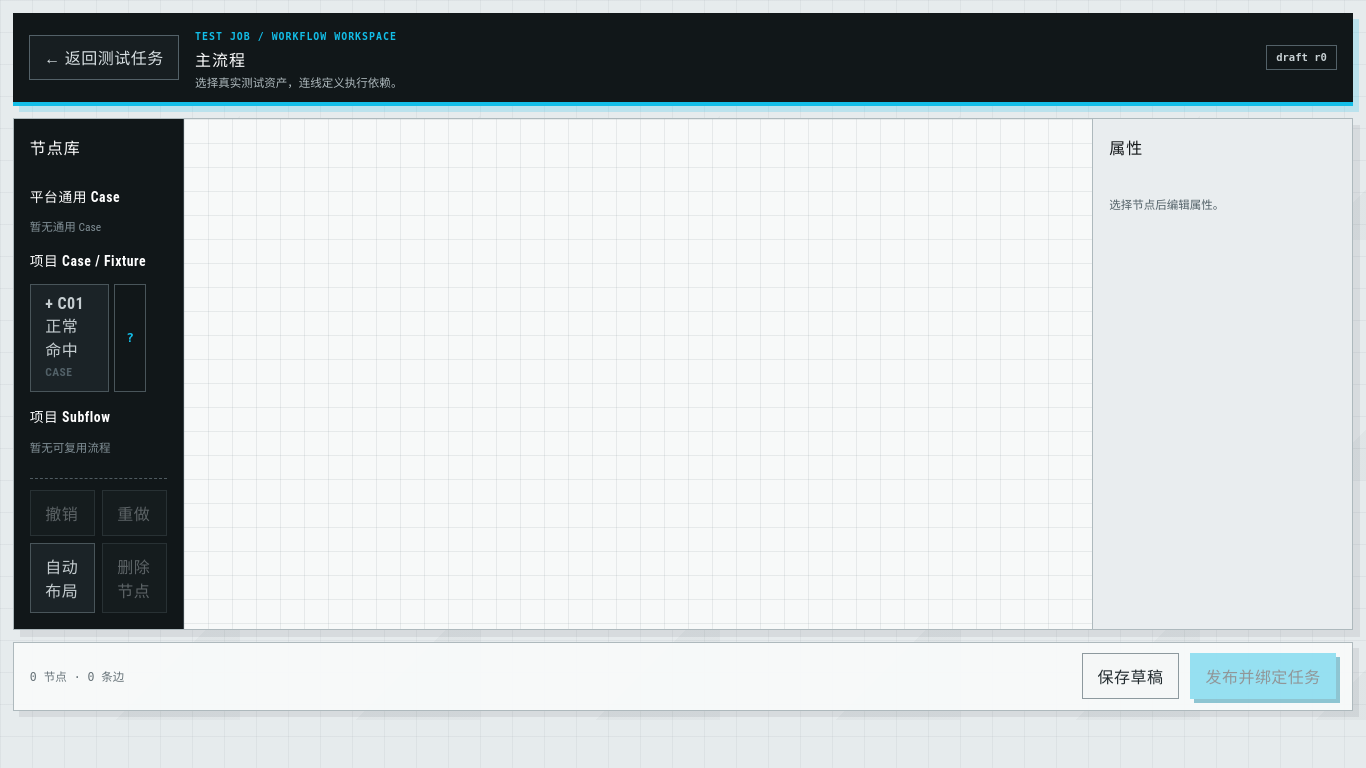
Scenario: WorkflowDesigner › does not publish when saving the current DAG fails
Step 1. Click the button "+ C01 正常命中 CASE" → coordinates (69, 338), box [30,284,109,392]
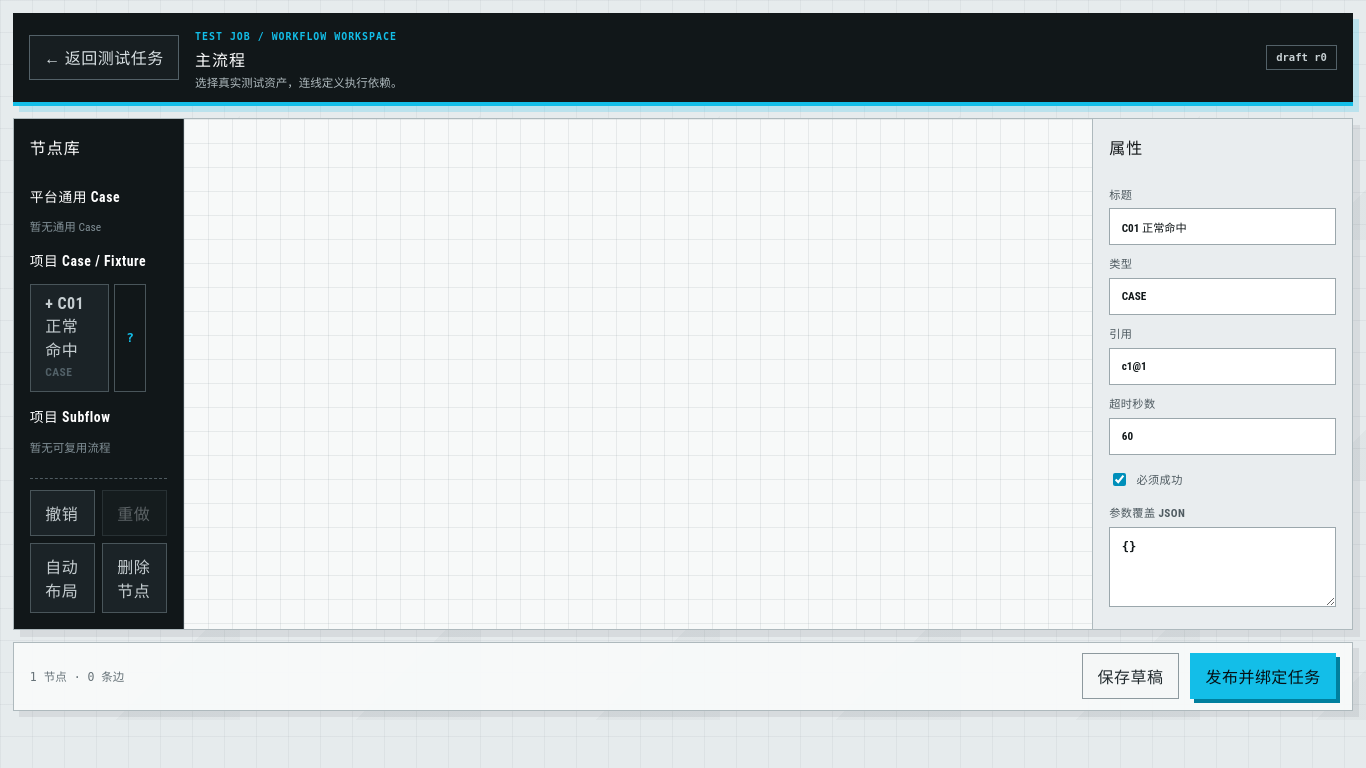
Step 2. Click the button "发布并绑定任务" → coordinates (1263, 676), box [1190,654,1336,699]
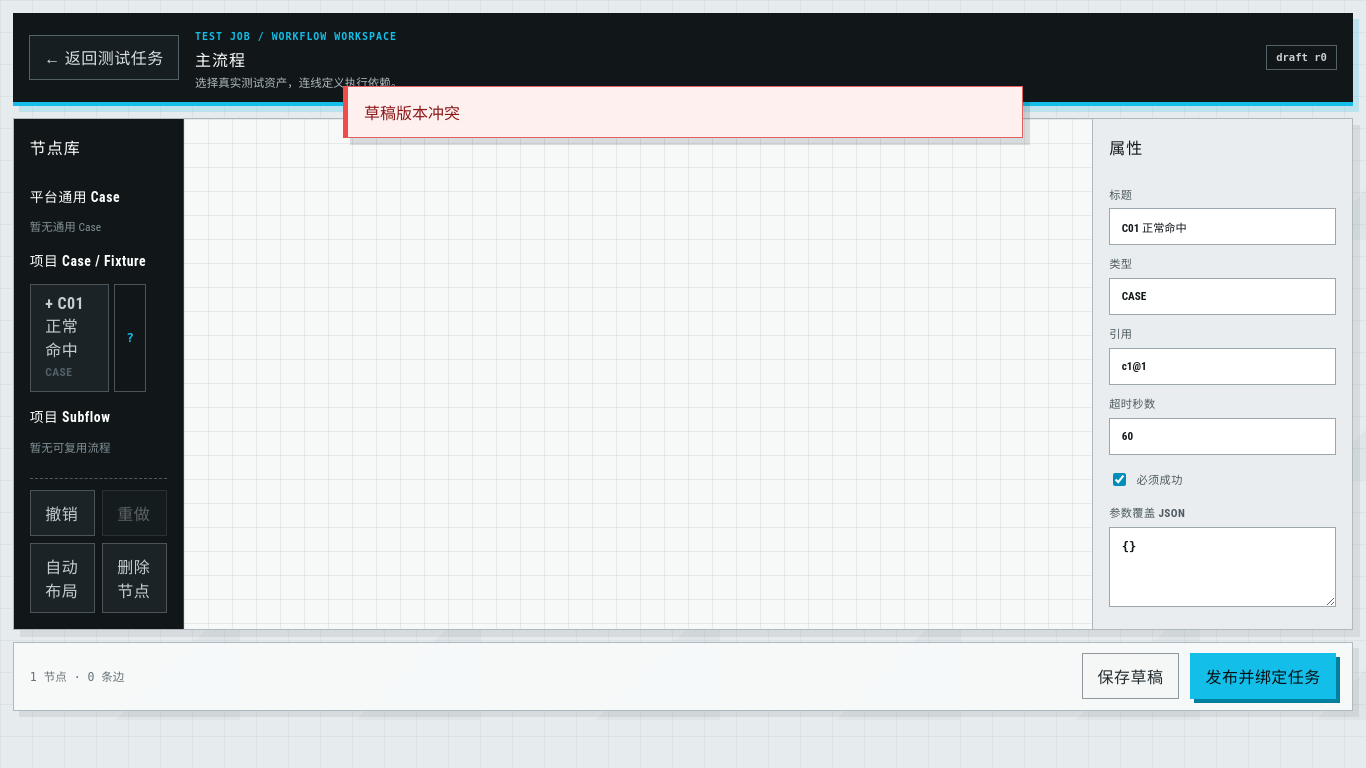
Expected: the message "草稿版本冲突" is shown, [343,86,1023,138]
